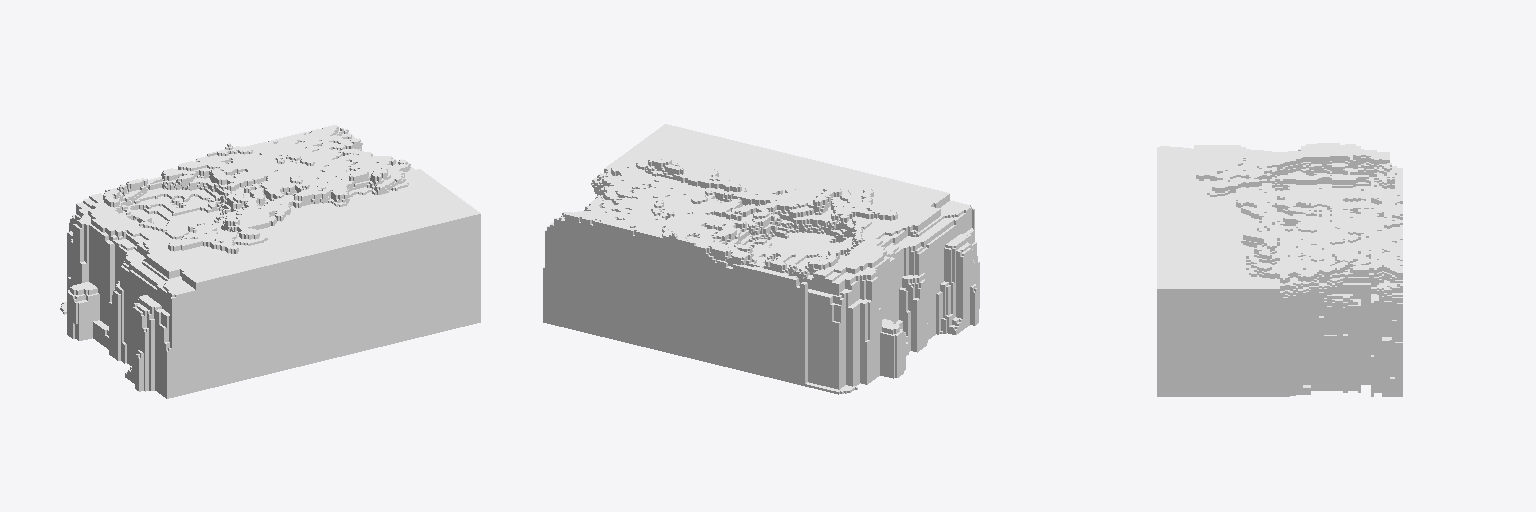
File: Cubeland-21.obj
3 renders of one model, left to right at view 1: azimuth 30°, elevation 25°; view 2: azimuth 150°, elevation 25°; view 3: azimuth 270°, elevation 25°, orthographic.
Visible parts, largest first — view 1: object 1; view 2: object 1; view 3: object 1.
Part boxes in pixels (bbox=[...]): object 1: bbox=[60, 125, 480, 398]; object 1: bbox=[543, 124, 979, 394]; object 1: bbox=[1157, 143, 1402, 396].
Bounding box in the file's own units: 14.5 × 5.2 × 9.4.